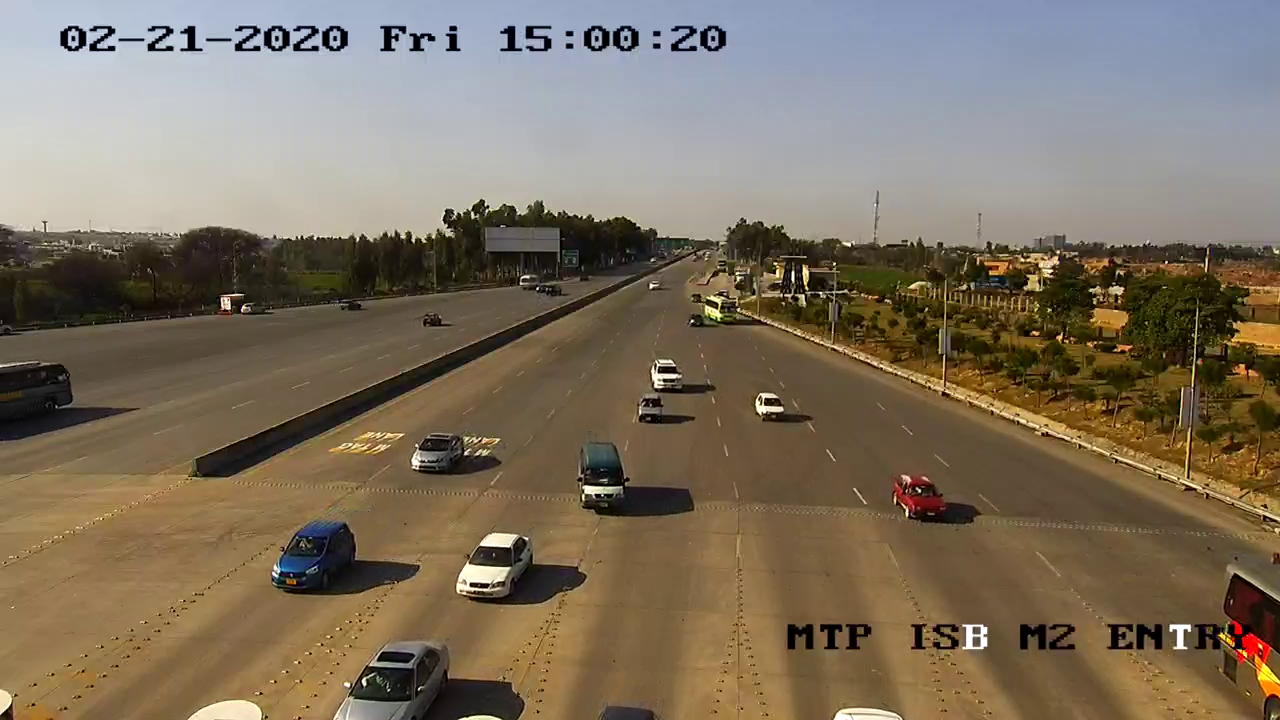f1: (319, 629, 463, 720), (265, 512, 360, 599), (449, 524, 542, 611), (880, 466, 959, 529), (407, 424, 469, 478), (749, 383, 794, 426)
f2: (568, 435, 639, 520)
